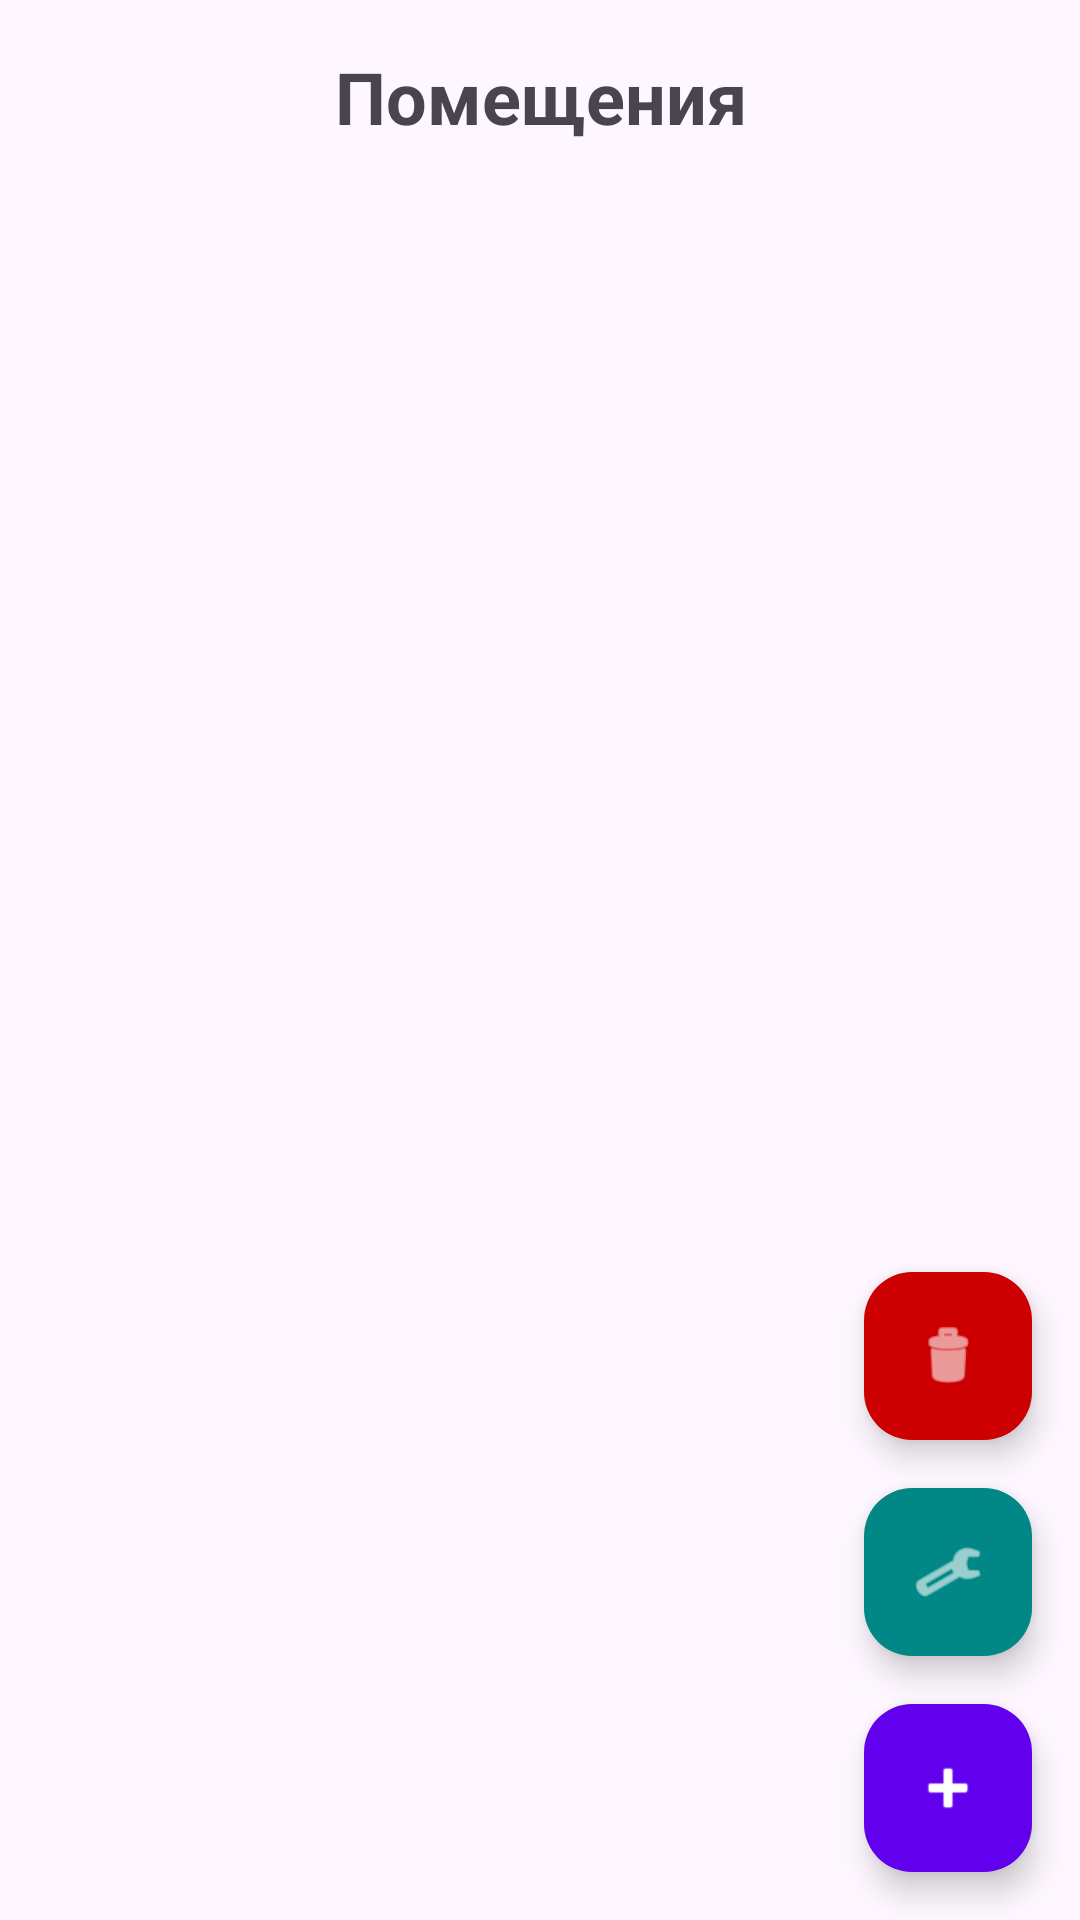

Where icons sit on this 1080 × 1920 app screen, as [left=x1, top=y1, right=x2, bottom=y2]:
Администрирование: [left=864, top=1488, right=1032, bottom=1656]
Добавить: [left=864, top=1704, right=1032, bottom=1872]
Удалить все записи: [left=864, top=1272, right=1032, bottom=1440]
